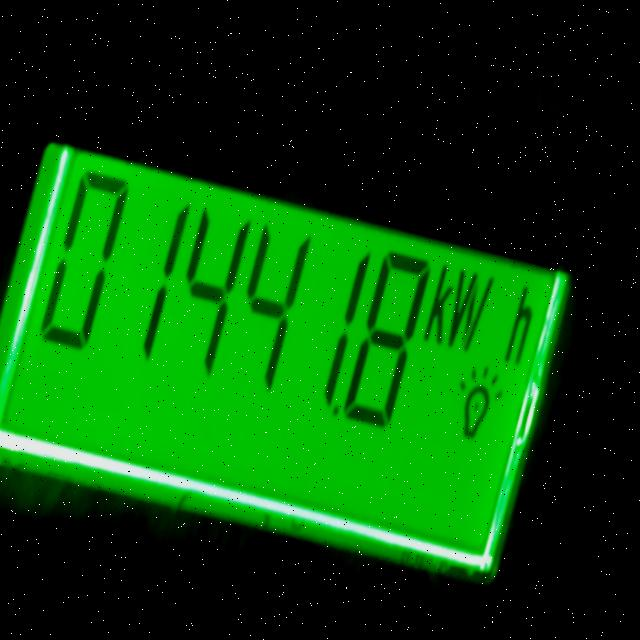.: (331, 399, 342, 418)
0: (34, 165, 134, 352)
1: (137, 200, 192, 359), (318, 250, 371, 407)
4: (162, 206, 252, 379), (220, 225, 312, 393)
8: (340, 249, 432, 431)
